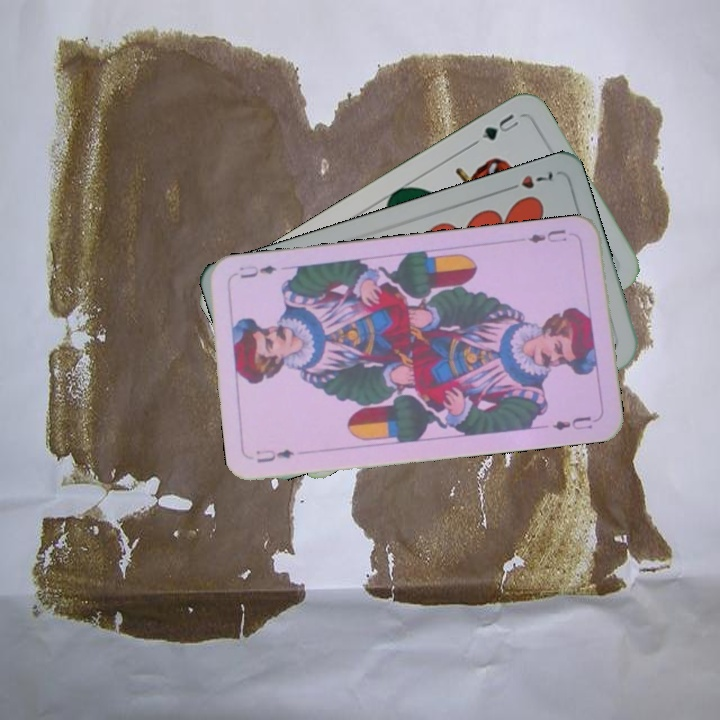EU: (523, 225, 570, 246), (252, 445, 296, 466)
GU: (477, 109, 522, 143)
H7: (500, 167, 556, 194)
